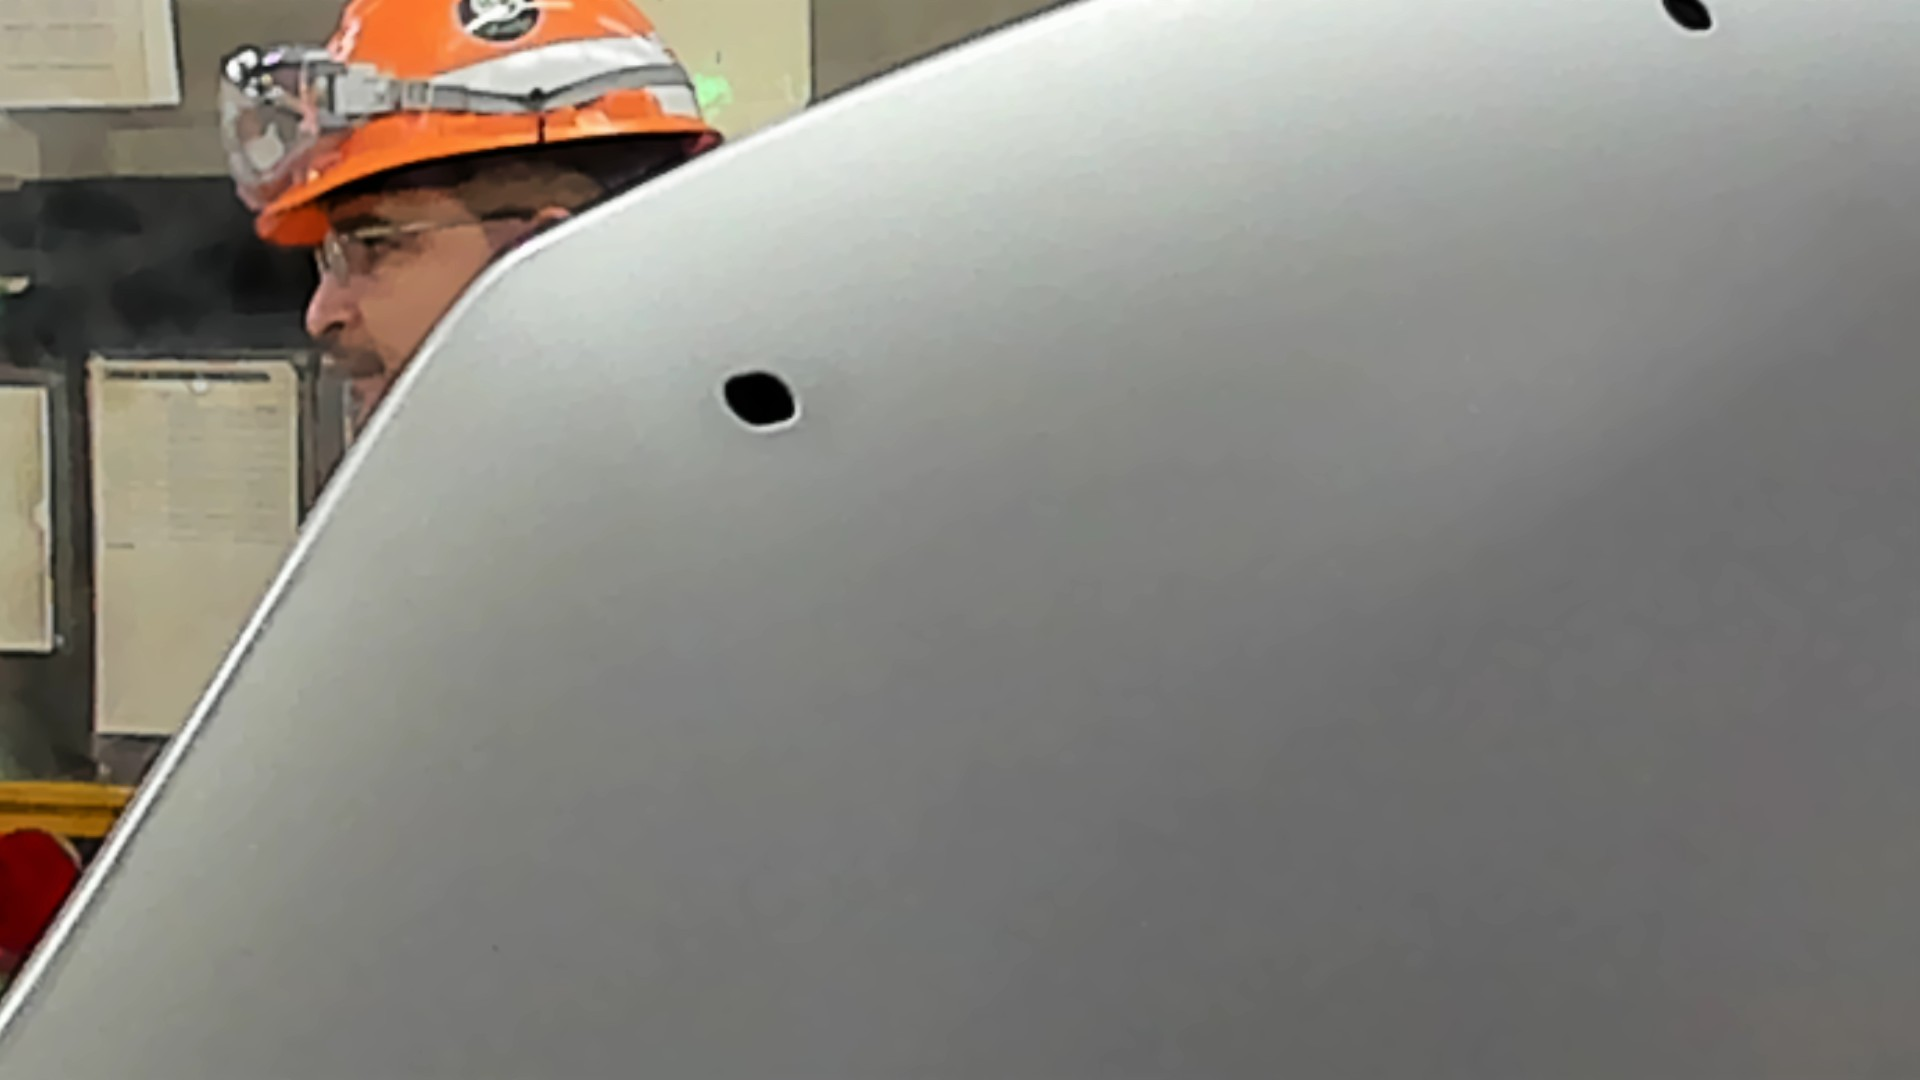chico: (709, 367, 814, 438), (1646, 1, 1725, 37)
